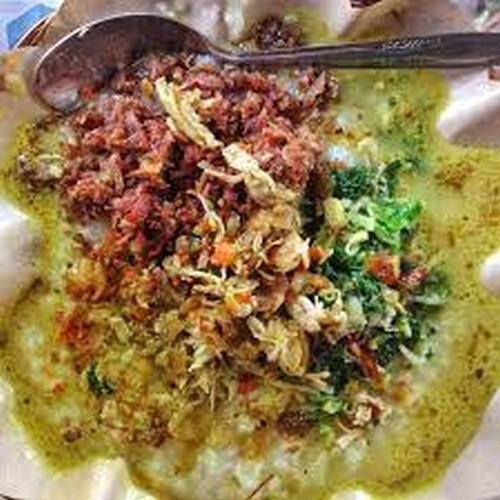bubur mengguh: (15, 116, 473, 479)
